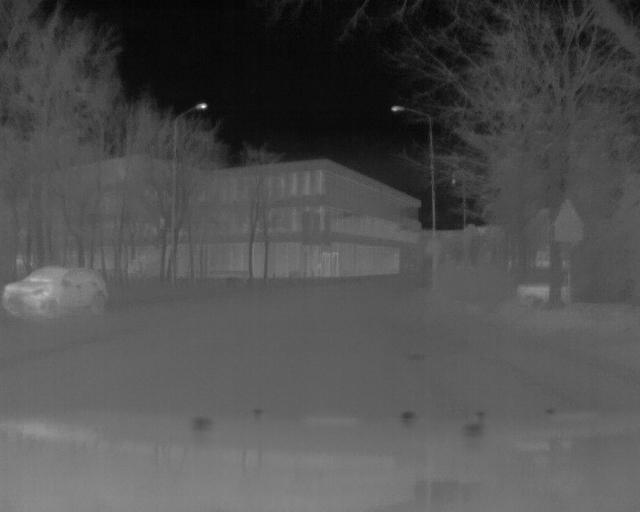car: (4, 262, 112, 319)
